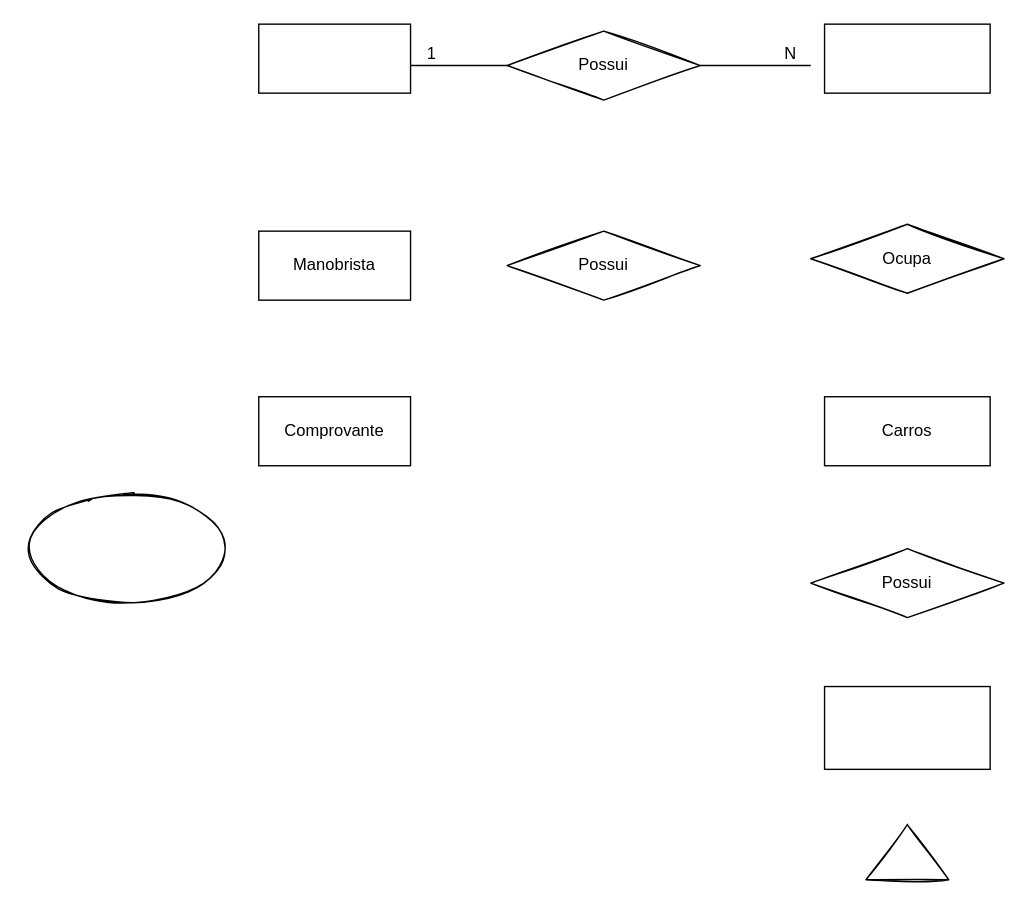
The diagram is 1028 pixels wide and 904 high, and some of its shapes have lost their labels. The shapes that lost their labels are listed below. From the top down, each one's centre as x and y in pixels, then its label:
At point 334,58: "Estacionamento".
At point 906,58: "Vagas".
At point 906,727: "Clientes".
